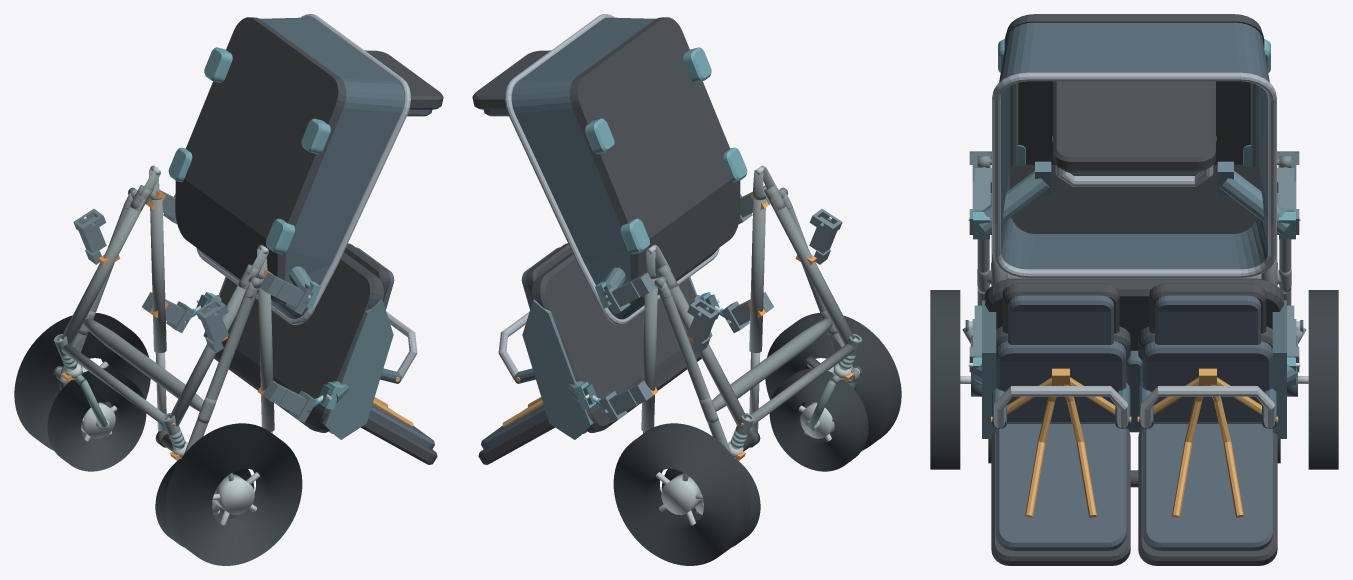
File: D29_w650_state3_wheel_L.glb
3 renders of one model, left to right at view 1: azimuth 30°, elevation 25°; view 2: azimuth 150°, elevation 25°; view 3: azimuth 270°, elevation 25°, orthographic. The views are drawn at different scales.
Visible parts, largest first — view 1: D29_Lower, D29_Upper, RL_tire.008, FR_tire.008, RR_tire.008, V46_rearbar.009, main_upper_1.009, main_lower_1.009, V46_rear_leg_-1.009, main_upper_-1.009, main_lower_-1.009, front_fixed_round_tube.008 (+11 smaller); view 2: D29_Lower, D29_Upper, RR_tire.008, FL_tire.008, RL_tire.008, V46_rearbar.009, main_upper_-1.009, main_lower_-1.009, V46_rear_leg_1.009, main_upper_1.009, main_lower_1.009, front_fixed_round_tube.008 (+11 smaller); view 3: D29_Upper, D29_Lower, RL_tire.008, RR_tire.008, D29_Lower_Mount_M, Universal_Cabin_Receiver_M_1, Universal_Cabin_Receiver_M_-1, D29_Upper_Mount_H, Universal_Cabin_Receiver_H_1, Universal_Cabin_Receiver_H_-1, V46_rear_leg_1.009, V46_rear_leg_-1.009.
Boxes of the visible parts, x1,y1,x2,y2 form: D29_Lower: (168, 14, 443, 324); D29_Upper: (203, 243, 437, 464); RL_tire.008: (165, 423, 302, 565); FR_tire.008: (47, 368, 146, 471); RR_tire.008: (14, 313, 150, 450); V46_rearbar.009: (83, 318, 203, 411); main_upper_1.009: (149, 197, 166, 353); main_lower_1.009: (61, 199, 145, 345); V46_rear_leg_-1.009: (184, 287, 257, 454); main_upper_-1.009: (257, 277, 274, 431); main_lower_-1.009: (169, 283, 248, 426); front_fixed_round_tube.008: (61, 344, 164, 426); D29_Lower: (472, 14, 747, 324); D29_Upper: (478, 243, 712, 464); RR_tire.008: (613, 423, 750, 565); FL_tire.008: (769, 368, 868, 471); RL_tire.008: (765, 313, 901, 450); V46_rearbar.009: (712, 318, 832, 411); main_upper_-1.009: (749, 197, 766, 353); main_lower_-1.009: (770, 199, 854, 345); V46_rear_leg_1.009: (658, 287, 731, 454); main_upper_1.009: (641, 276, 658, 431); main_lower_1.009: (667, 283, 746, 426); front_fixed_round_tube.008: (751, 344, 854, 426); D29_Upper: (982, 278, 1286, 565); D29_Lower: (992, 14, 1276, 277); RL_tire.008: (930, 290, 960, 469); RR_tire.008: (1308, 290, 1338, 469); D29_Lower_Mount_M: (968, 161, 1300, 239); Universal_Cabin_Receiver_M_1: (1277, 168, 1299, 234); Universal_Cabin_Receiver_M_-1: (969, 168, 991, 234); D29_Upper_Mount_H: (968, 355, 1300, 385); Universal_Cabin_Receiver_H_1: (1287, 305, 1299, 372); Universal_Cabin_Receiver_H_-1: (969, 305, 981, 372); V46_rear_leg_1.009: (1279, 239, 1291, 305); V46_rear_leg_-1.009: (977, 239, 989, 305).
Size of the model in its own units: 0.9251 by 1.17 by 0.8171.
